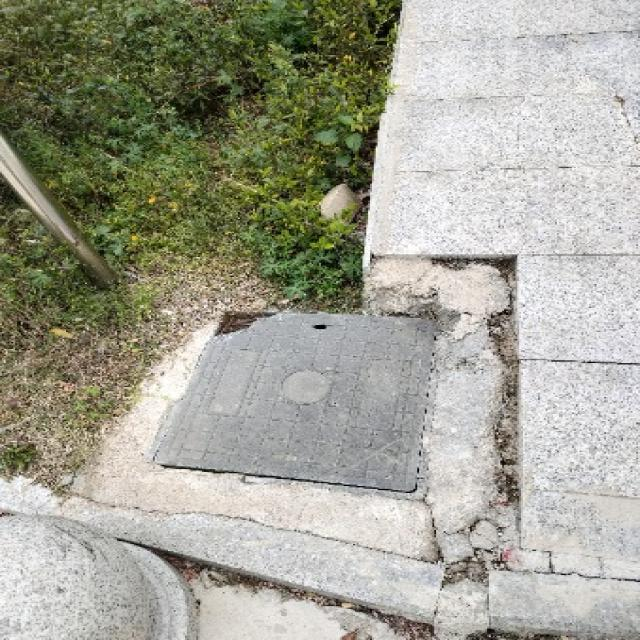Faulty: (156, 295, 447, 509)
